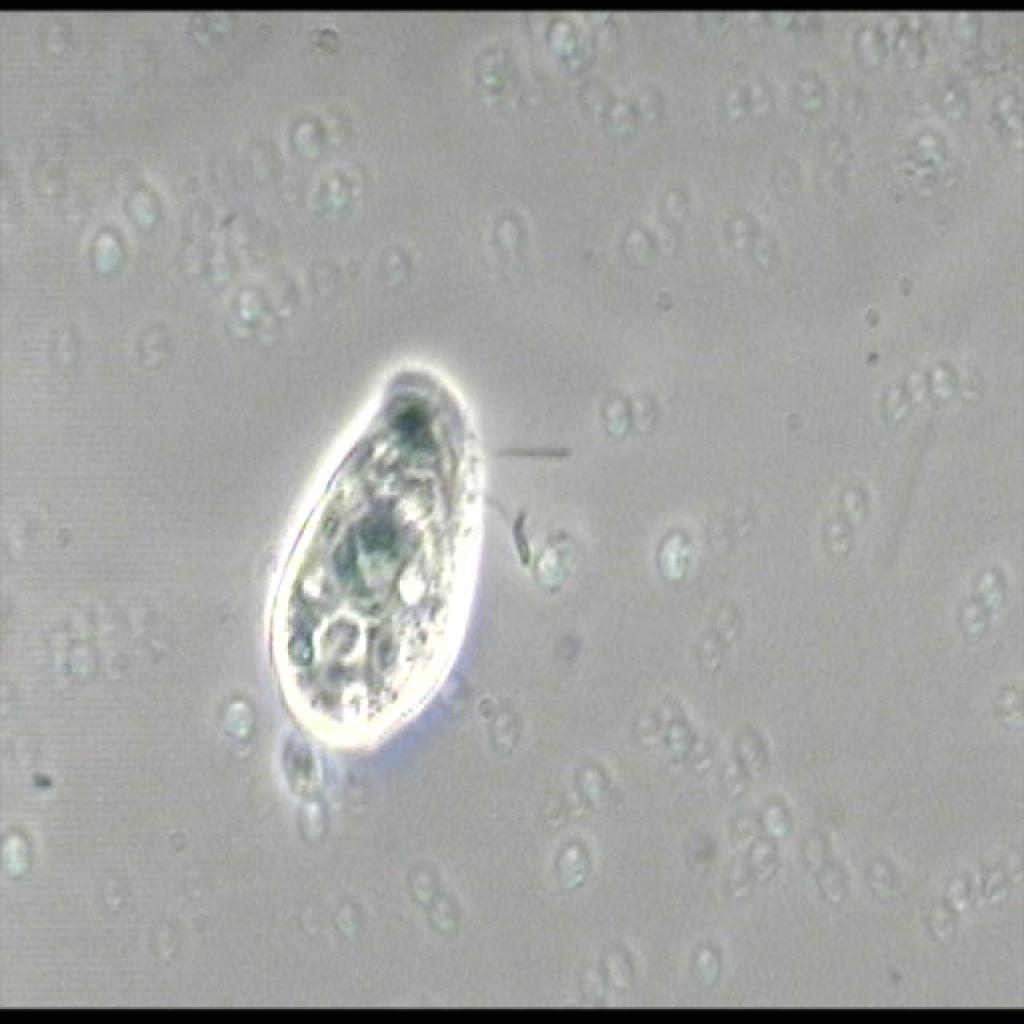Chilodonella: (244, 339, 508, 770)
